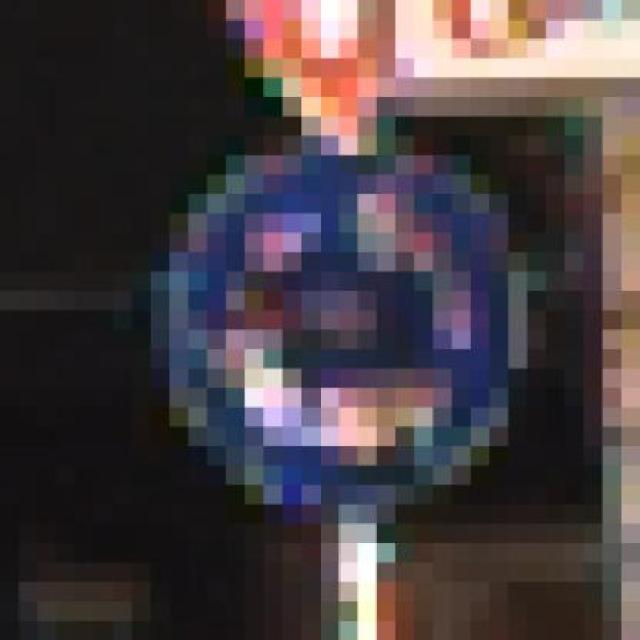Round-About: (76, 136, 564, 524)
